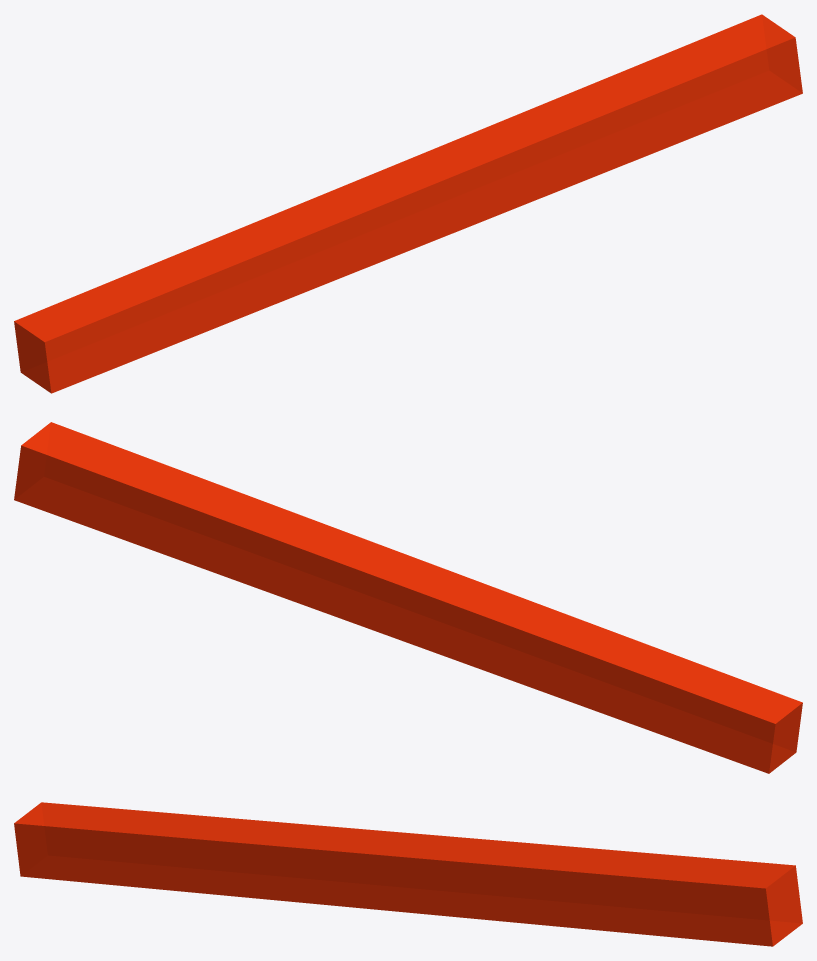
The model's file is Event_420604493_EErechit_44.fbx.
3 renders of one model, top to bottom at view 1: azimuth 30°, elevation 25°; view 2: azimuth 150°, elevation 25°; view 3: azimuth 330°, elevation 25°, orthographic. The views are drawn at different scales.
Parts seen in each view (by area): view 1: Model; view 2: Model; view 3: Model.
Part boxes in pixels (x1=…): Model: x1=14, y1=14, x2=802, y2=393; Model: x1=14, y1=422, x2=802, y2=773; Model: x1=14, y1=802, x2=802, y2=946.
Size of the model in its own units: 1.09 by 0.2225 by 0.1069.
